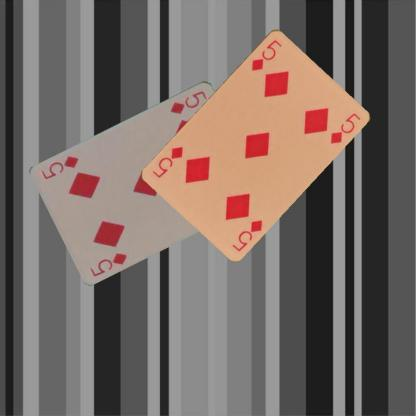5d: (248, 36, 284, 72), (229, 216, 264, 253), (168, 88, 209, 115), (88, 250, 128, 277)
